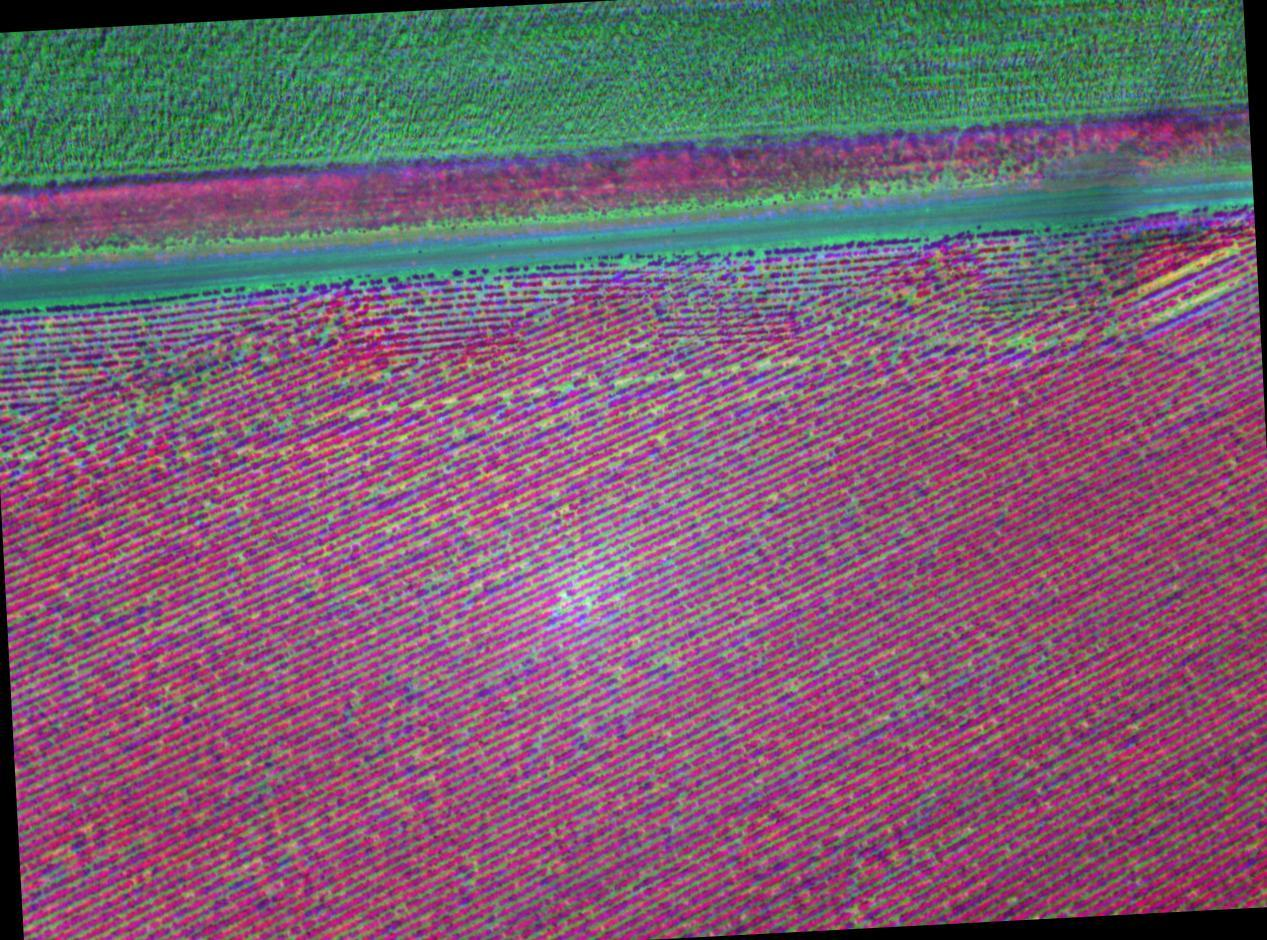dc: (471, 858, 479, 870), (1012, 336, 1022, 344), (921, 672, 929, 682), (560, 385, 573, 391), (657, 435, 665, 444)
